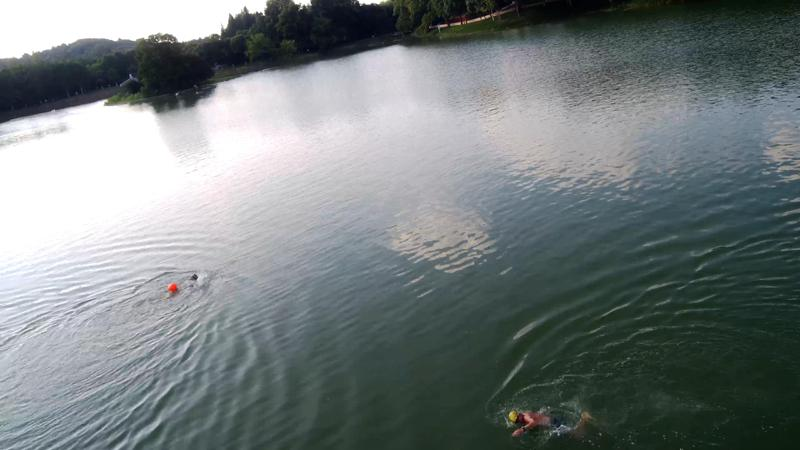swimmers: (505, 407, 595, 440)
